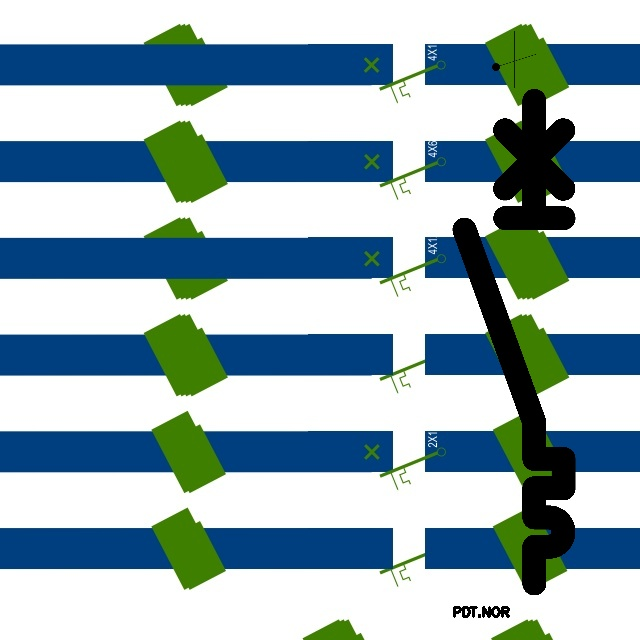interruptor_termomagnetico: (452, 88, 576, 596)
